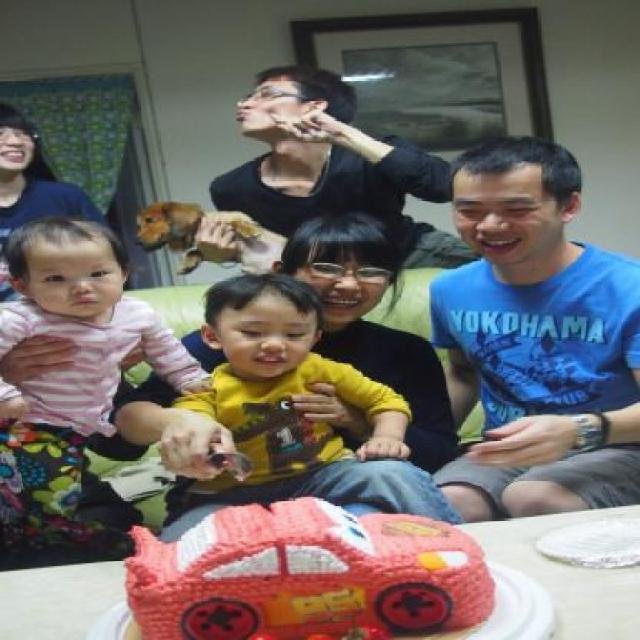Cake: (117, 492, 492, 640)
